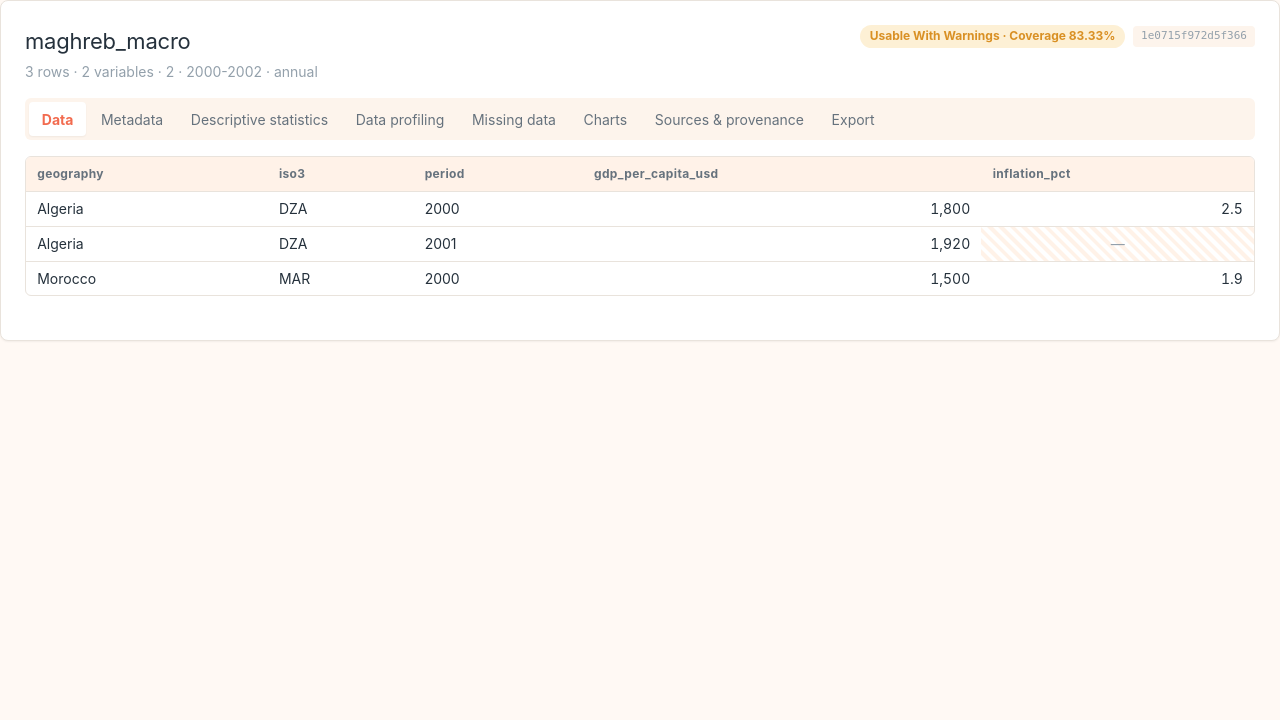
Test: DatasetWorkspace › renders inline charts with unit and source
Expected: the heading "maghreb_macro" is shown, [25,28,191,54]
What coordinates should you click on to do the following:
click the tab "Charts"
I would click on:
 (605, 119)
Its box is [571,102,640,136].
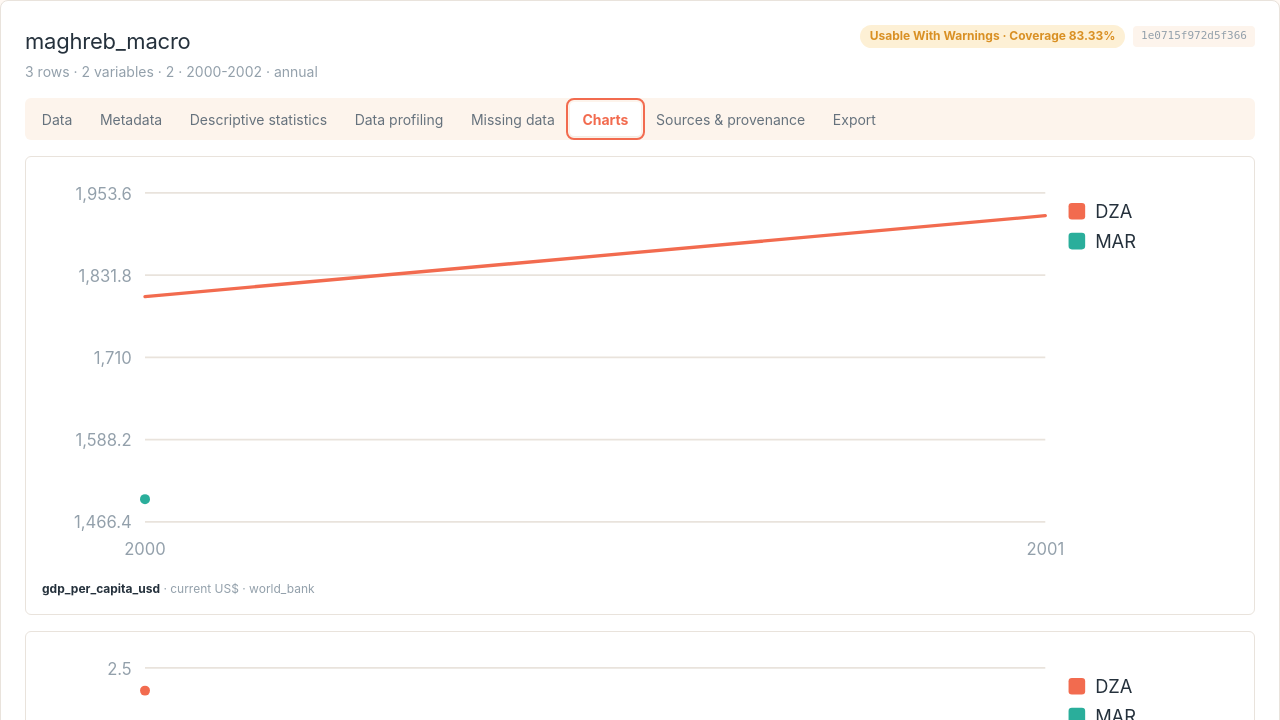
Now the 1st element with class "dchart" is shown
Now the text "gdp_per_capita_usd · current US$ · world_bank" is shown, box [42,581,315,596]
